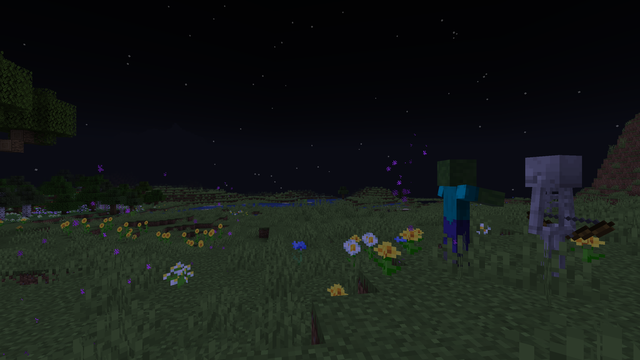squelettes: (519, 155, 588, 286)
zombies: (432, 161, 480, 267)
